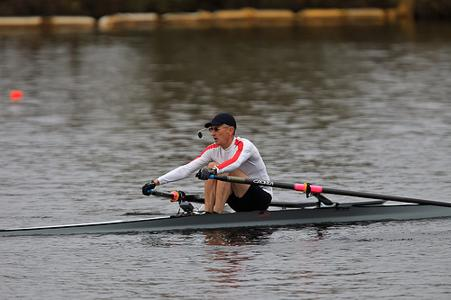person: (142, 114, 276, 217)
